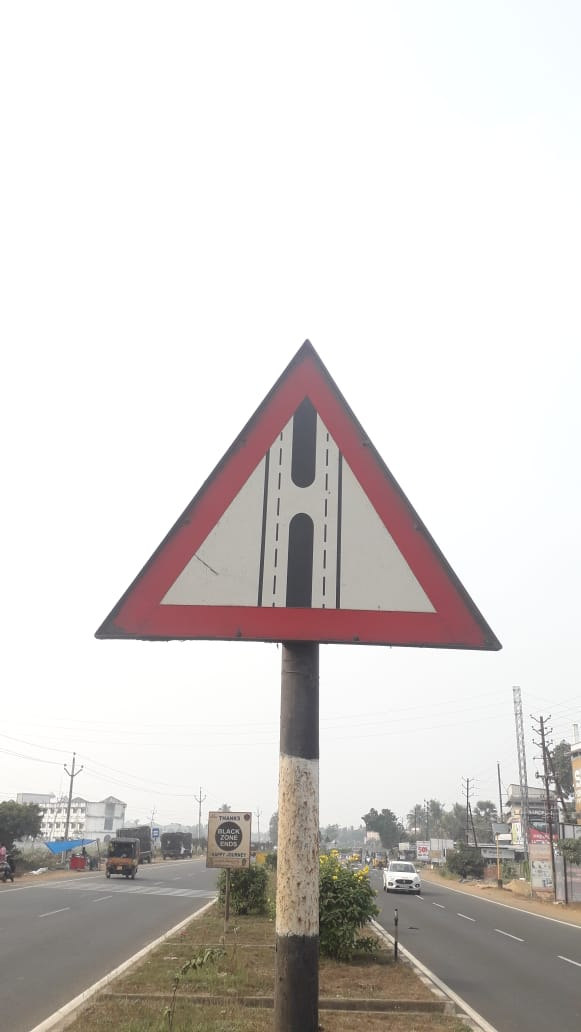highway go straight: (73, 330, 547, 669)
